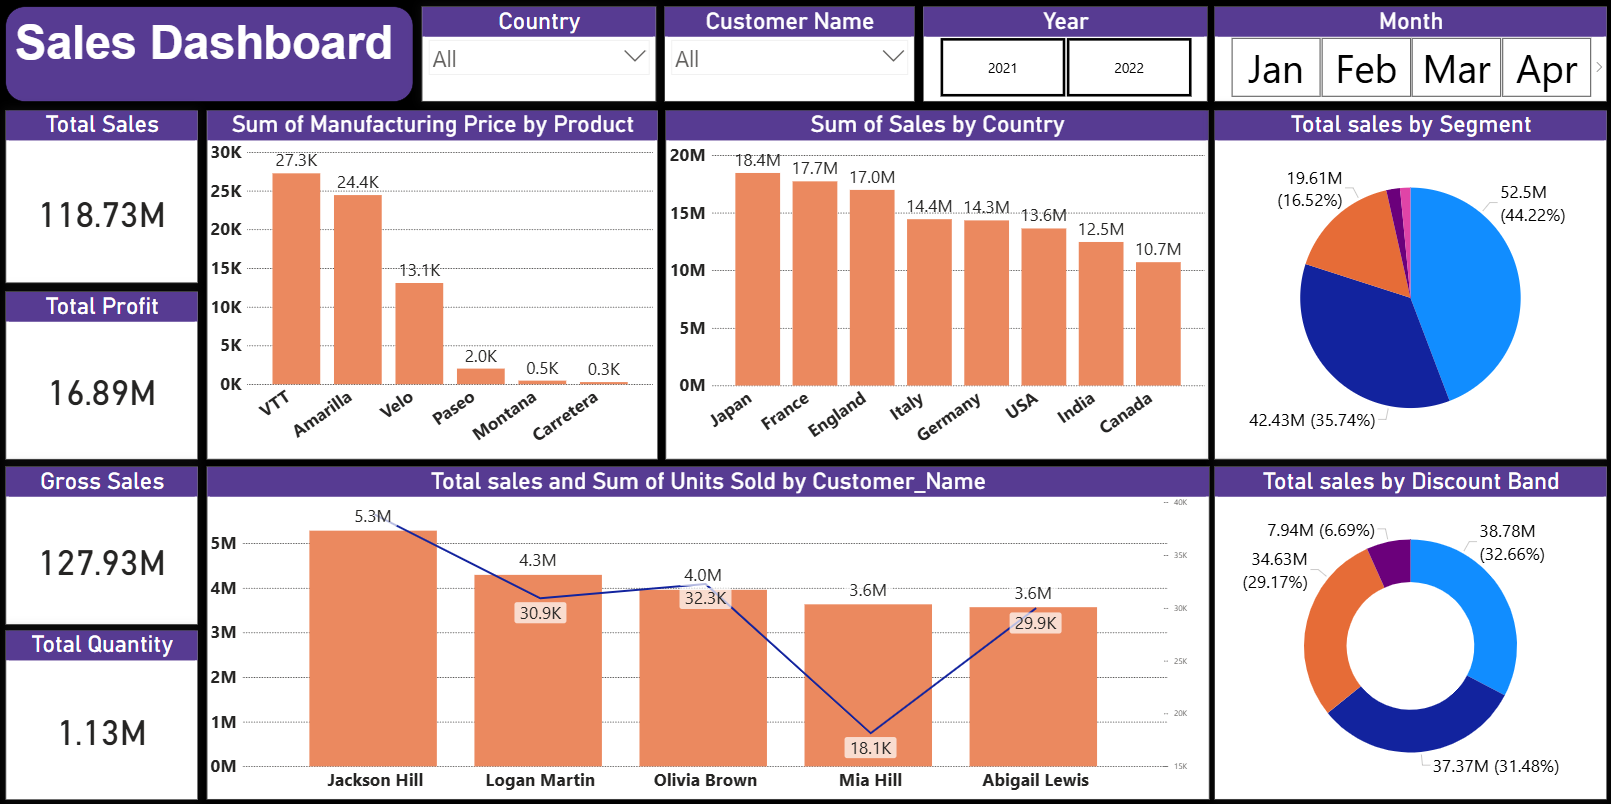

Layout of this report page (visuals, bound fields, positions):
{"tool":"powerbi","page":{"name":"Page 1","canvas":[2500,1250],"ordinal":0},"visuals":[{"type":"textbox","box":[12.5,12.5,630,147.5],"z":0},{"type":"card","title":"Total Sales","fields":{"Values":["Financial Sales Data (2).Sales"]},"box":[12.5,172.5,297.5,267.5],"z":1000},{"type":"card","title":"Total Profit","fields":{"Values":["Financial Sales Data (2).Profit"]},"box":[12.5,452.5,297.5,260],"z":2000},{"type":"card","title":"Gross Sales","fields":{"Values":["Financial Sales Data (2).Gross Sales"]},"box":[12.5,722.5,297.5,245],"z":3000},{"type":"card","title":"Total Quantity","fields":{"Values":["Financial Sales Data (2).Units Sold"]},"box":[12.5,975,297.5,262.5],"z":4000},{"type":"columnChart","fields":{"Y":["Financial Sales Data (2).Sales"],"Category":["Financial Sales Data (2).Country"]},"box":[1032.5,172.5,840,540],"z":5000},{"type":"slicer","title":"Country","fields":{"Values":["Financial Sales Data (2).Country"]},"box":[655,12.5,362.5,147.5],"z":6000},{"type":"slicer","title":"Customer Name","fields":{"Values":["Financial Sales Data (2).Customer_Name"]},"box":[1030,12.5,387.5,147.5],"z":7000},{"type":"slicer","title":"Year","fields":{"Values":["Financial Sales Data (2).Year"]},"box":[1430,12.5,440,147.5],"z":8000},{"type":"slicer","title":"Month","fields":{"Values":["Financial Sales Data (2).Month"]},"box":[1880,12.5,607.5,147.5],"z":9000},{"type":"columnChart","title":"Sum of Manufacturing Price by Product","fields":{"Category":["Financial Sales Data (2).Product_Name"],"Y":["Financial Sales Data (2).Manufacturing Price"]},"box":[322.5,172.5,697.5,540],"z":10000},{"type":"pieChart","fields":{"Y":["Financial Sales Data (2).Total sales"],"Category":["Financial Sales Data (2).Segment"]},"box":[1880,172.5,607.5,540],"z":11000},{"type":"donutChart","fields":{"Category":["Financial Sales Data (2).Discount Band"],"Y":["Financial Sales Data (2).Total sales"]},"box":[1880,722.5,607.5,515],"z":12000},{"type":"lineStackedColumnComboChart","fields":{"Category":["Financial Sales Data (2).Customer_Name"],"Y":["Financial Sales Data (2).Total sales"],"Y2":["Financial Sales Data (2).Units Sold"]},"box":[322.5,722.5,1550,515],"z":13000}]}

Visuals, with their boxes in screenshot pixels (x1, y1, x2, y2), scaled from the page's 2500x1250 canvas onto the 1611x804 screenshot:
textbox: bbox=(8, 8, 414, 103)
"Total Sales" card: bbox=(8, 111, 200, 283)
"Total Profit" card: bbox=(8, 291, 200, 458)
"Gross Sales" card: bbox=(8, 465, 200, 622)
"Total Quantity" card: bbox=(8, 627, 200, 796)
columnChart - Financial Sales Data (2).Sales x Financial Sales Data (2).Country: bbox=(665, 111, 1207, 458)
"Country" slicer: bbox=(422, 8, 656, 103)
"Customer Name" slicer: bbox=(664, 8, 913, 103)
"Year" slicer: bbox=(921, 8, 1205, 103)
"Month" slicer: bbox=(1211, 8, 1603, 103)
"Sum of Manufacturing Price by Product" columnChart: bbox=(208, 111, 657, 458)
pieChart - Financial Sales Data (2).Total sales x Financial Sales Data (2).Segment: bbox=(1211, 111, 1603, 458)
donutChart - Financial Sales Data (2).Discount Band x Financial Sales Data (2).Total sales: bbox=(1211, 465, 1603, 796)
lineStackedColumnComboChart - Financial Sales Data (2).Customer_Name x Financial Sales Data (2).Total sales: bbox=(208, 465, 1207, 796)
